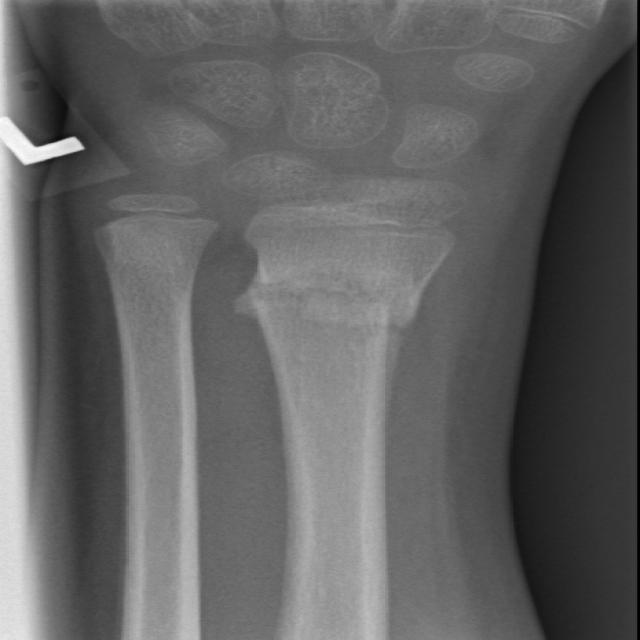radius fracture: (218, 258, 467, 376)
